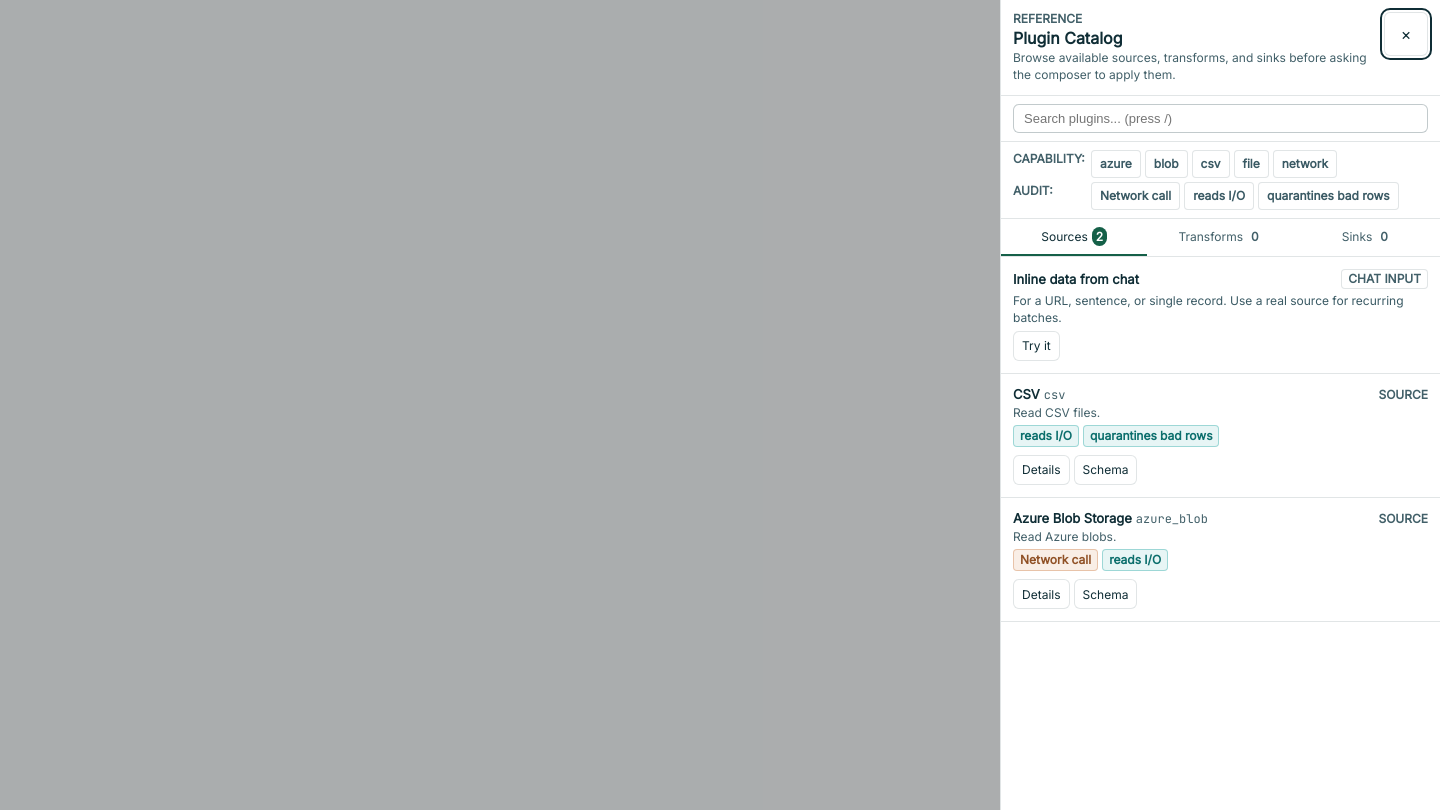
Test case: CatalogDrawer — Phase 7B reshape › does NOT render InlineChatSourceEntry on the Transforms or Sinks tabs
expect the text "azure_blob" is shown: met, box [1136,512,1208,527]
Click the tab "Transforms 0" at (1220, 237), box [1147,219,1294,256]
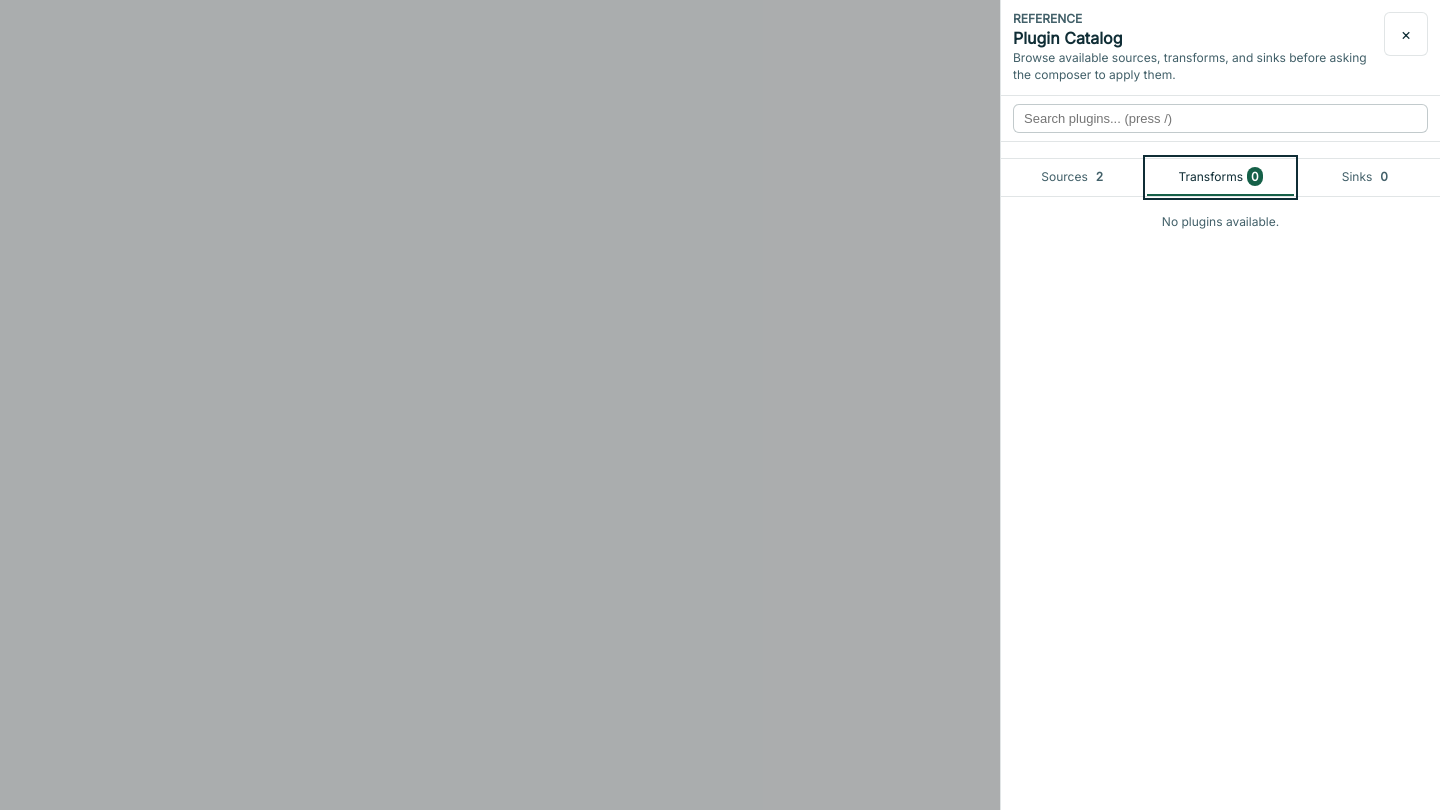
expect the text "Inline data from chat" is gone: met
